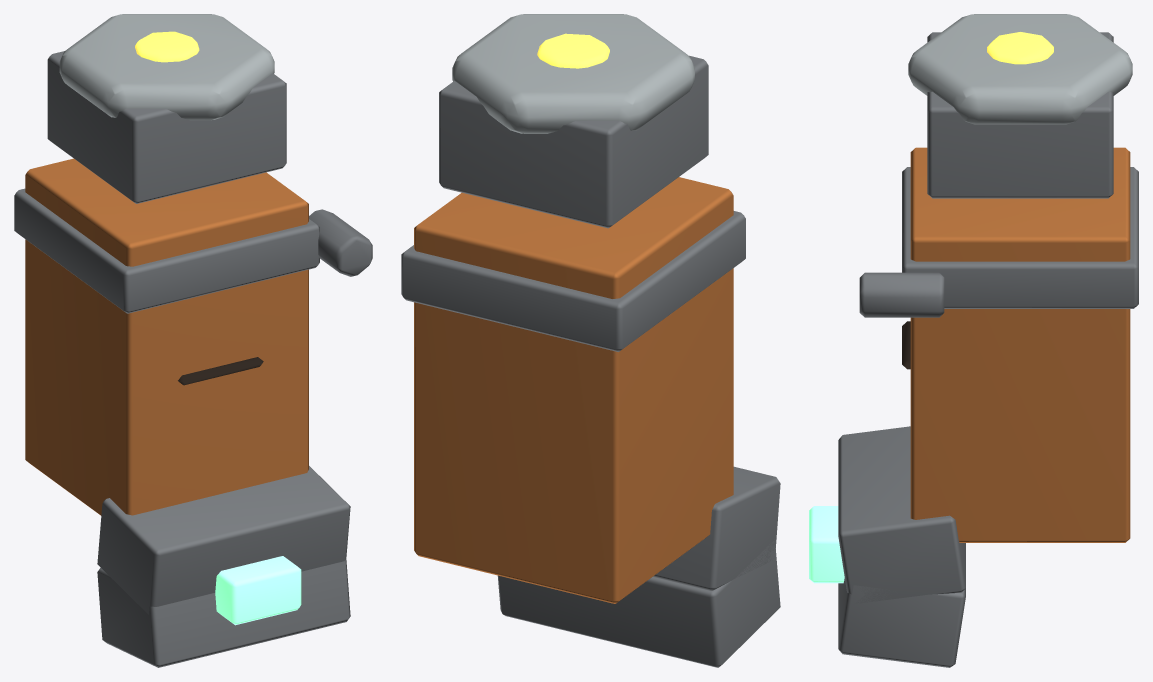
File: cobble_sons_arm_mendclaw.glb
3 views of the same model, side by side, from view 1: azimuth 30°, elevation 25°; view 2: azimuth 150°, elevation 25°; view 3: azimuth 270°, elevation 25° (orthographic). The views are drawn at different scales.
Visible parts, largest first — view 1: cobble_sons_arm_mendclaw; view 2: cobble_sons_arm_mendclaw; view 3: cobble_sons_arm_mendclaw.
Boxes of the visible parts, x1,y1,x2,y2 form: cobble_sons_arm_mendclaw: (14,14,372,667); cobble_sons_arm_mendclaw: (401,14,780,667); cobble_sons_arm_mendclaw: (809,14,1138,667).
Bounding box in the file's own units: 0.326 × 0.7509 × 0.39.
Materials: 1 (1 with a texture image).
